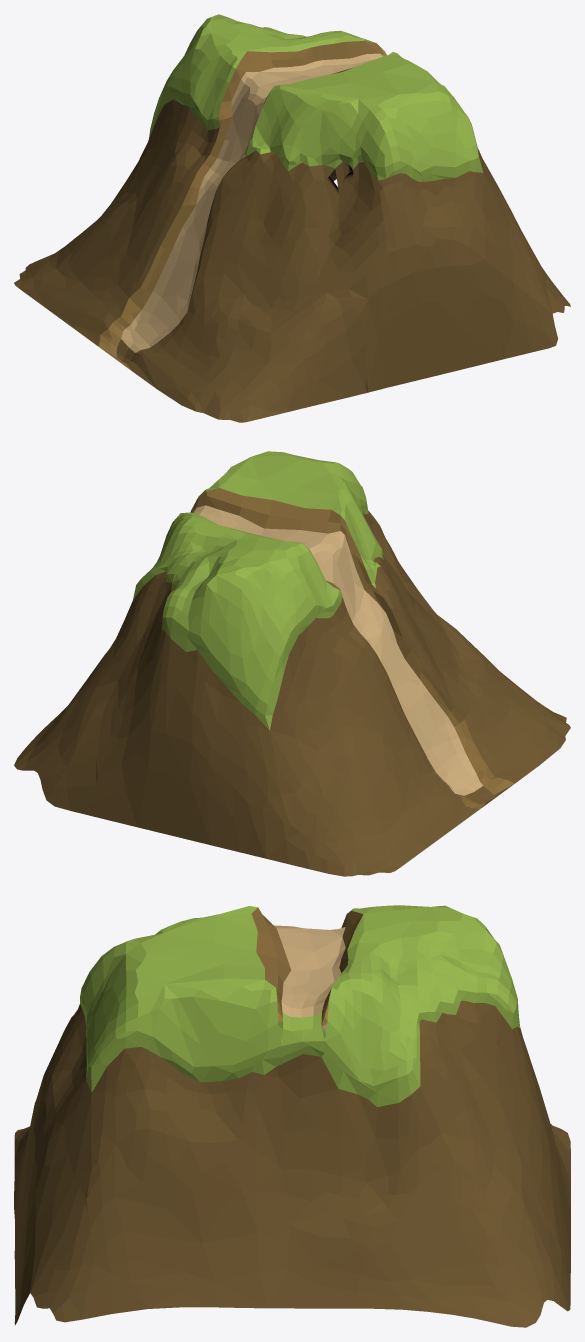
File: waterfall.fbx
The picture shows the model from 3 angles, top to bottom: view 1: azimuth 30°, elevation 25°; view 2: azimuth 150°, elevation 25°; view 3: azimuth 270°, elevation 25°; orthographic projection. The views are drawn at different scales.
Parts seen in each view (by area): view 1: waterfall_LOD0; view 2: waterfall_LOD0; view 3: waterfall_LOD0.
Boxes of the visible parts, <box> form: waterfall_LOD0: <box>14,14,570,422</box>; waterfall_LOD0: <box>14,451,570,876</box>; waterfall_LOD0: <box>14,905,570,1327</box>.
Size of what is drawn, in the model's own units: 206 by 128 by 206.
